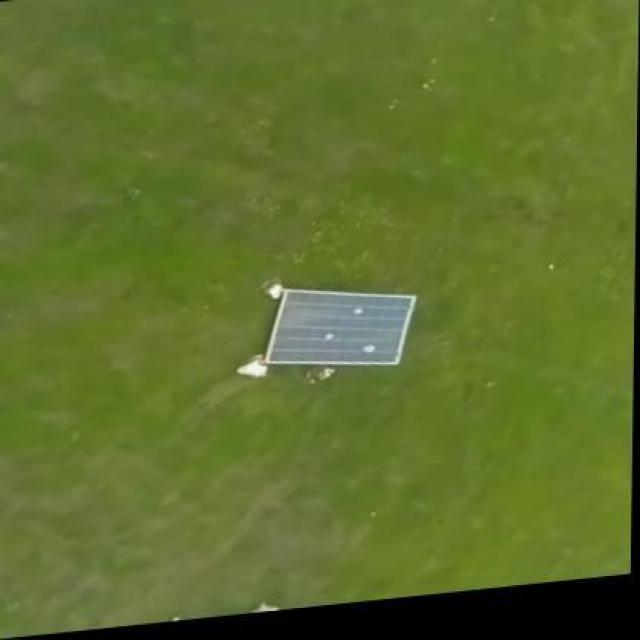soiled: (266, 288, 419, 372)
